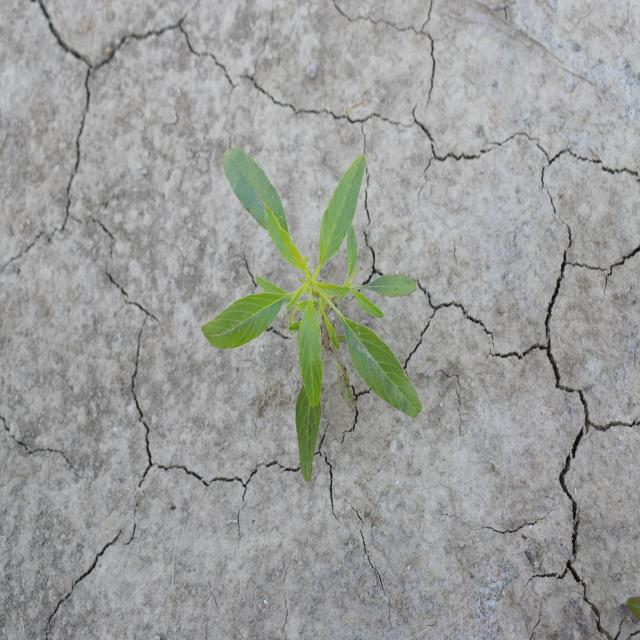Waterhemp: (200, 144, 423, 485)
